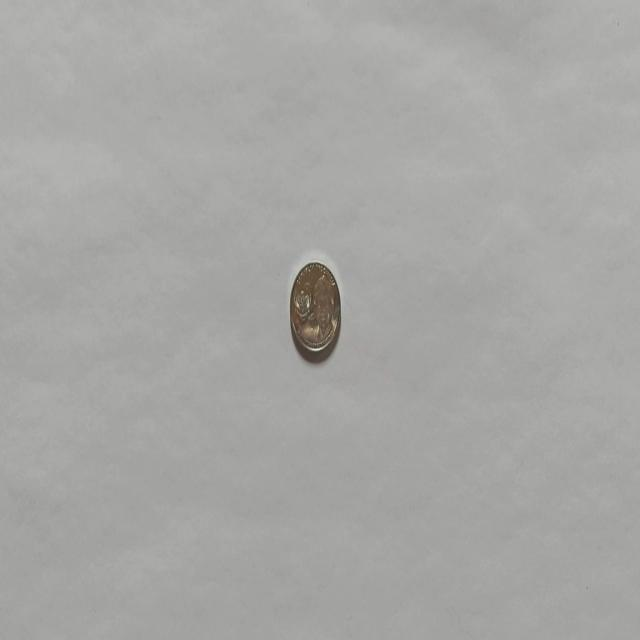dua ratus rupiah: (288, 260, 342, 354)
